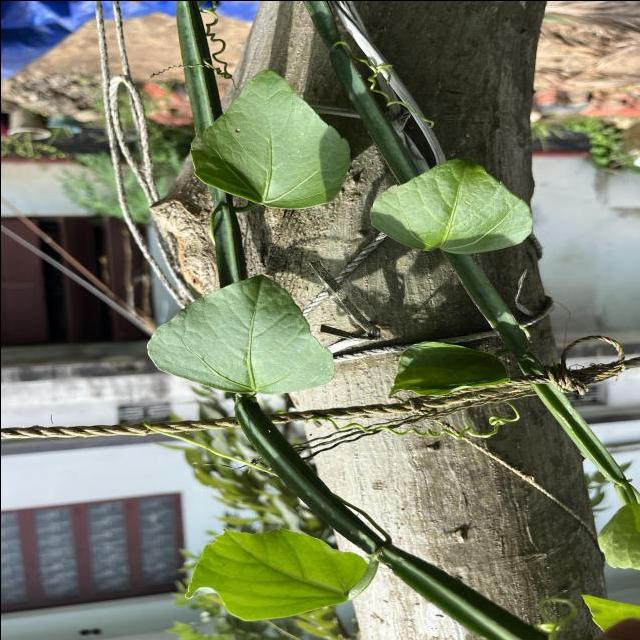Cissus quadrangularis: (144, 270, 338, 397), (185, 67, 354, 212), (364, 152, 534, 256)
